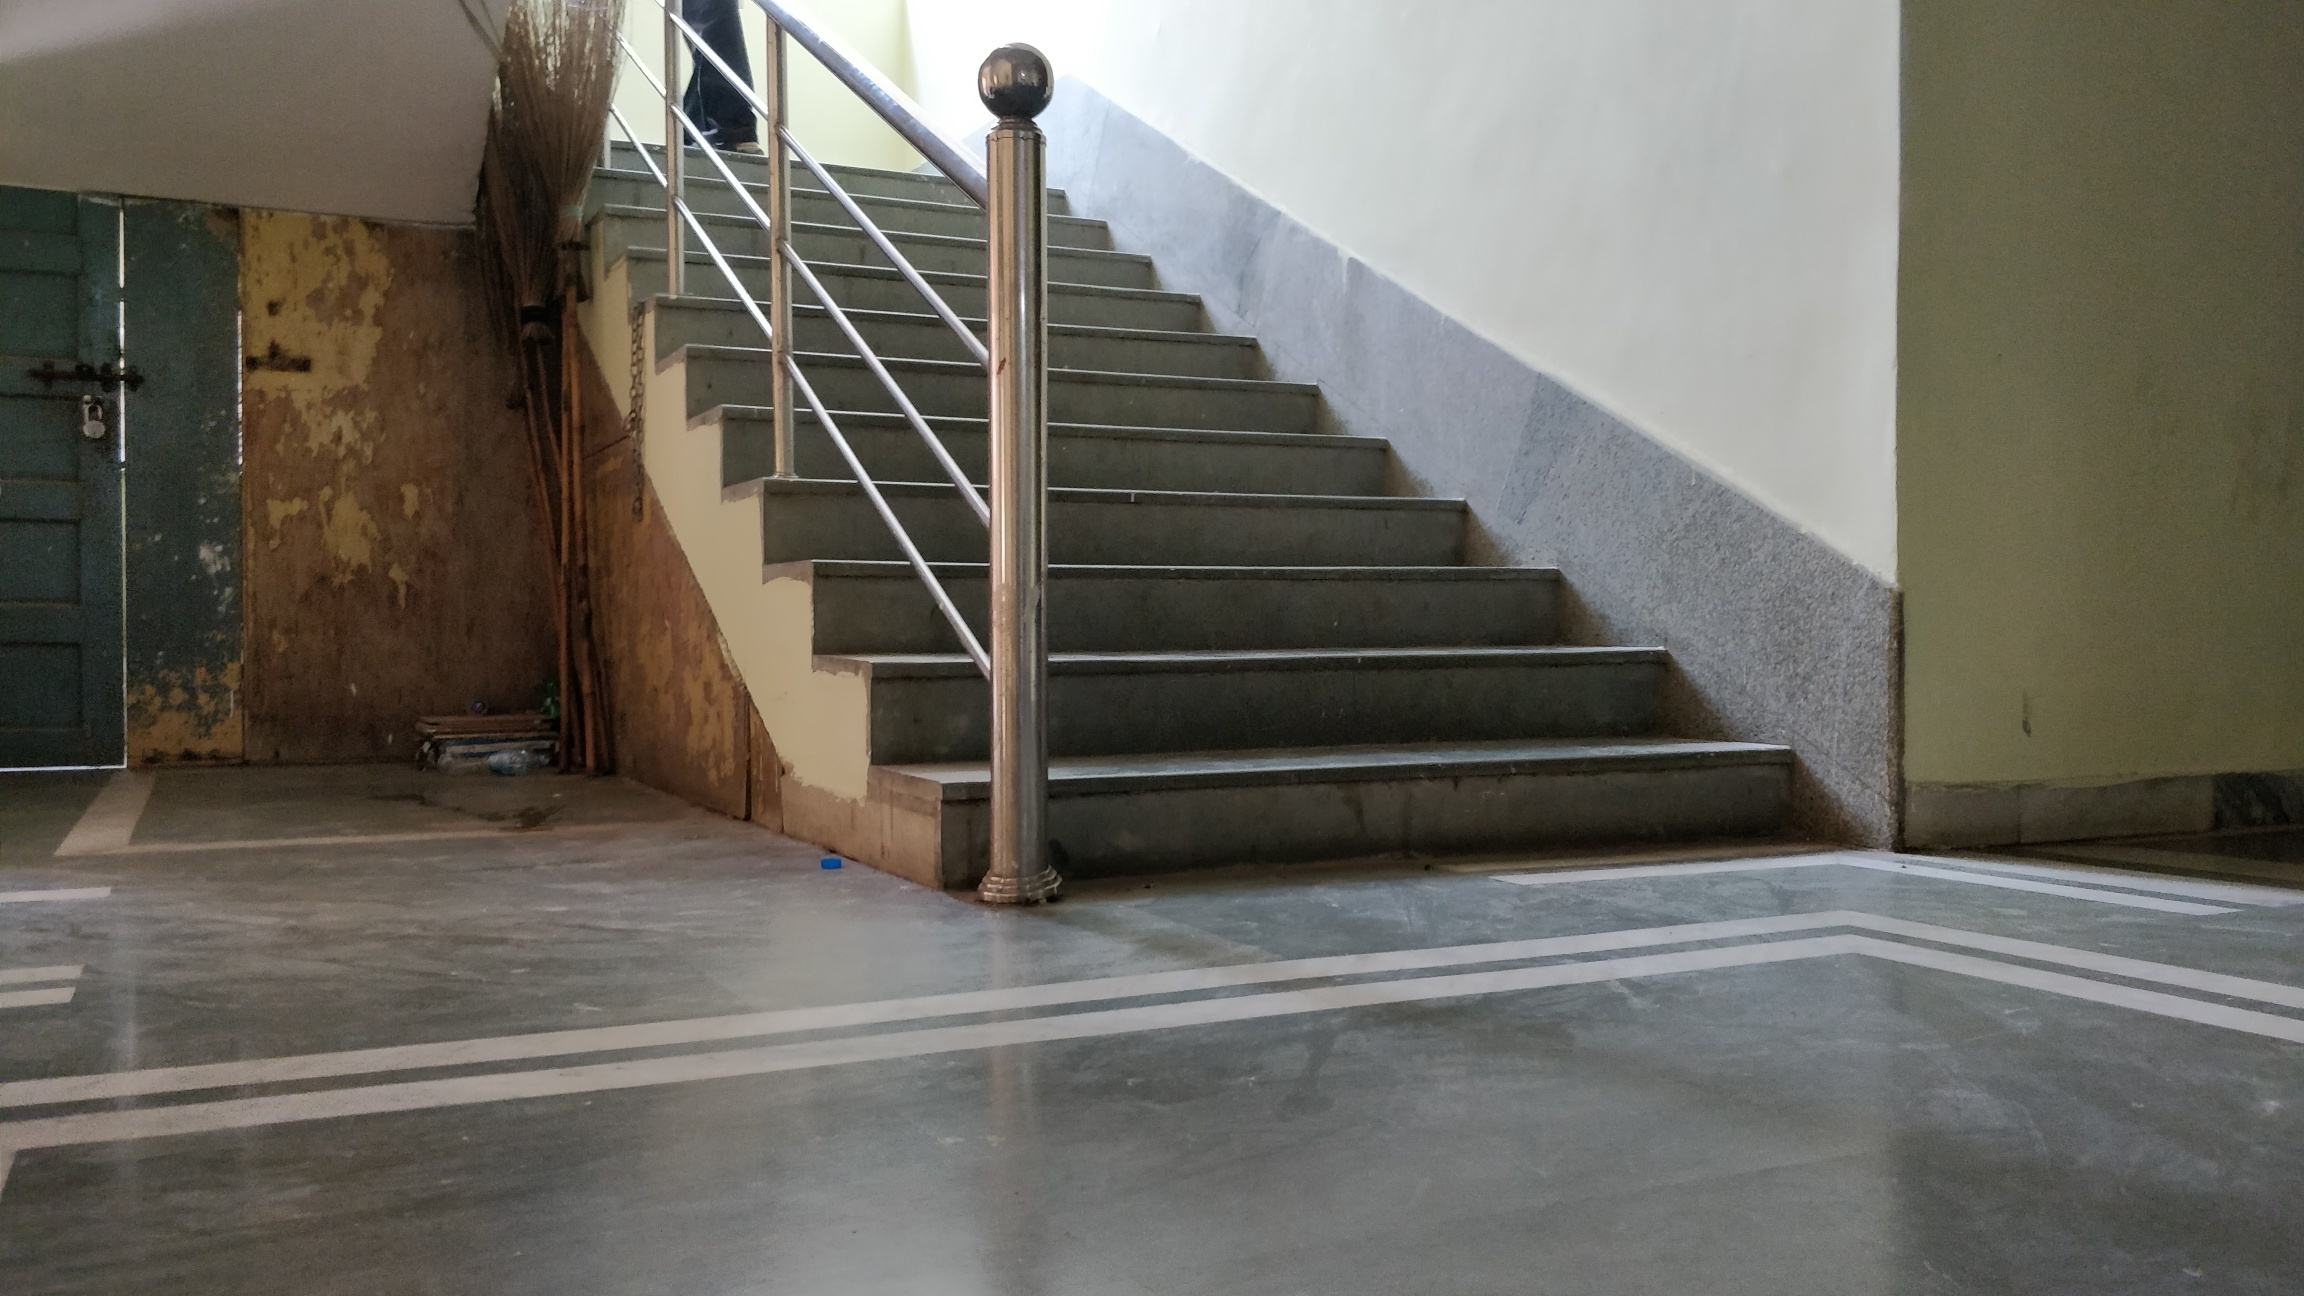stairs_up: (612, 201, 1813, 853)
